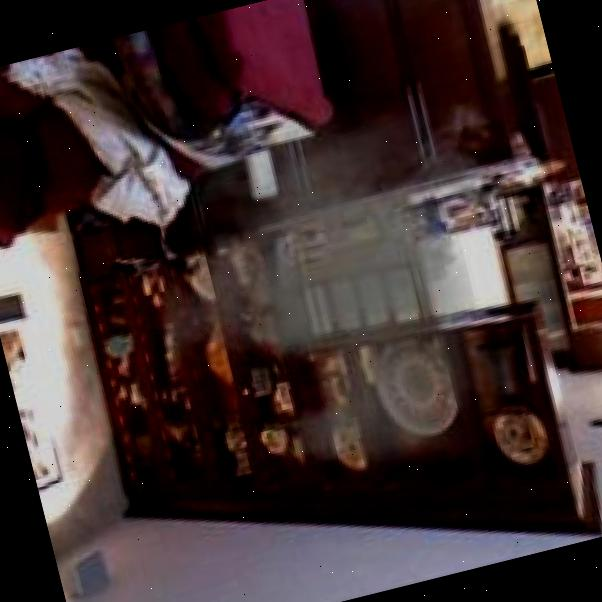smoke: (93, 40, 581, 526)
